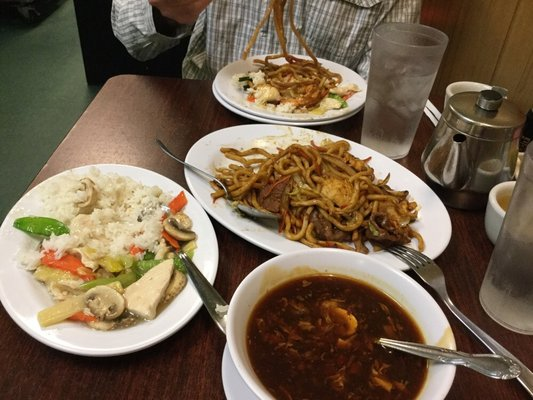burger: (387, 243, 533, 400)
pizza: (359, 22, 449, 160), (420, 81, 526, 196), (477, 118, 533, 335)
salad: (377, 337, 526, 383), (156, 140, 214, 181)
sushi: (225, 248, 456, 400)
